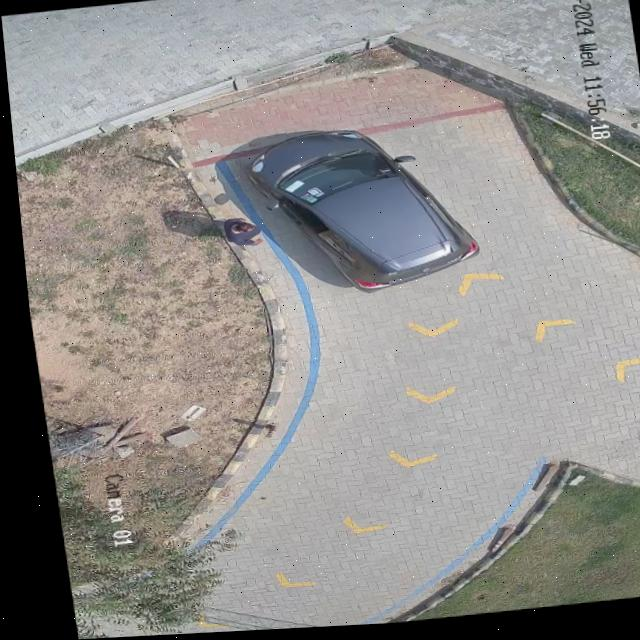car: (241, 133, 471, 296)
